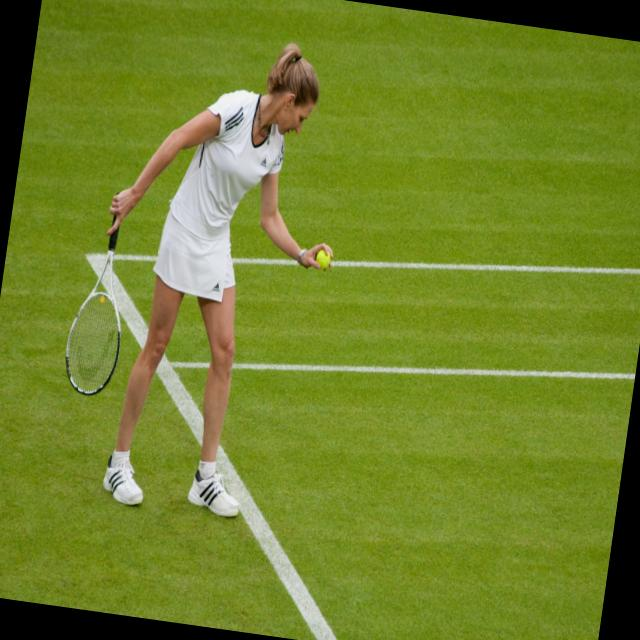Tennis Ball: (312, 247, 330, 268)
